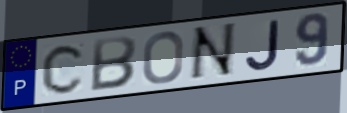9: (293, 11, 331, 70)
B: (87, 35, 139, 94)
C: (40, 42, 88, 96)
J: (242, 17, 282, 73)
N: (186, 21, 238, 84)
O: (141, 30, 186, 86)
